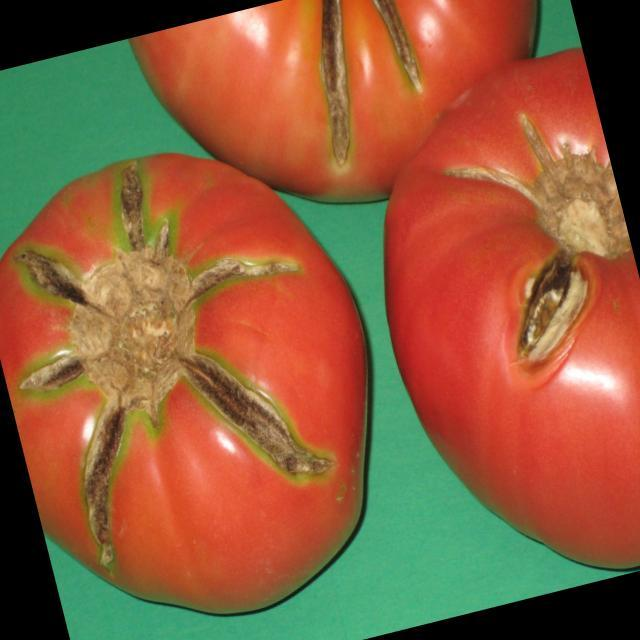TOMATO: (0, 109, 421, 640), (128, 36, 144, 52)
